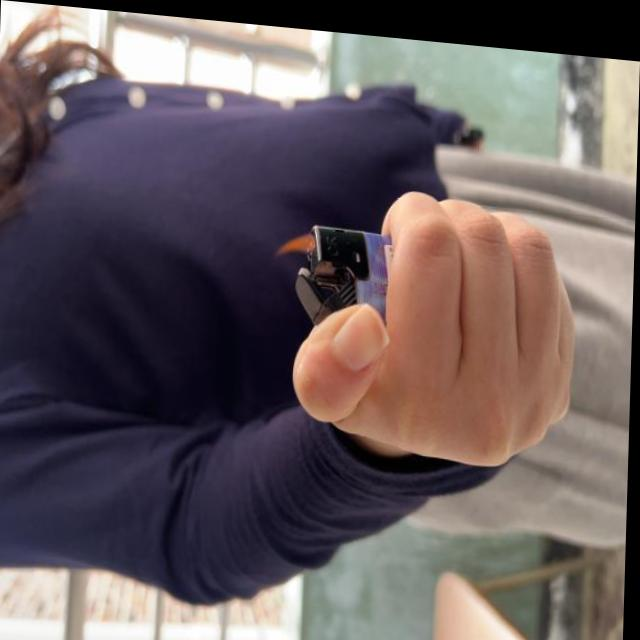Fire: (275, 223, 318, 258)
